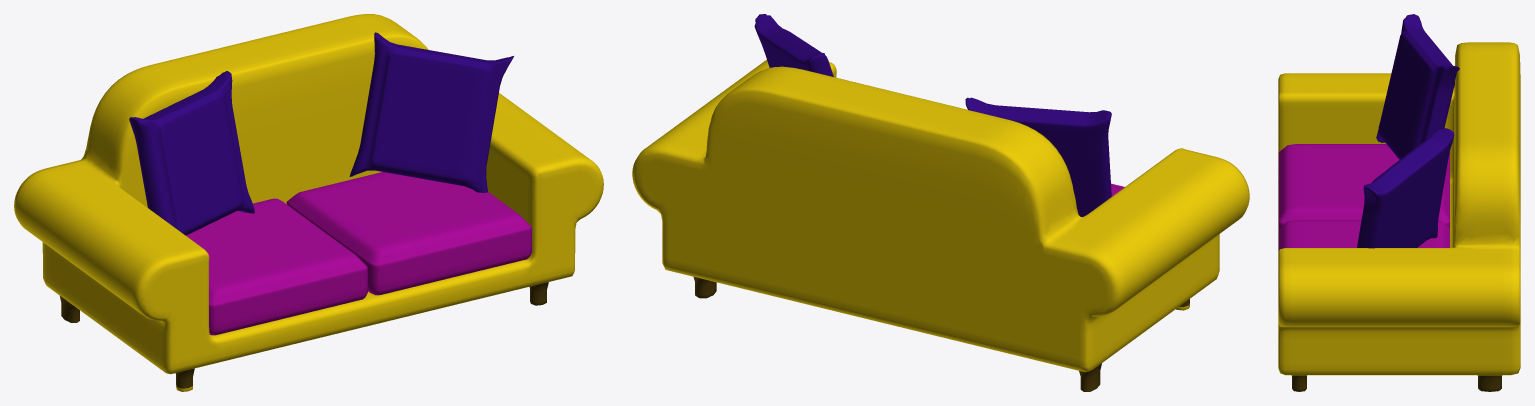
Rendered from SofaHigh.fbx.
3 renders of one model, left to right at view 1: azimuth 30°, elevation 25°; view 2: azimuth 150°, elevation 25°; view 3: azimuth 270°, elevation 25°, orthographic. The views are drawn at different scales.
Parts seen in each view (by area): view 1: Sofa; view 2: Sofa; view 3: Sofa.
Boxes of the visible parts, left/top/right/bottom form: Sofa: left=14, top=14, right=603, bottom=391; Sofa: left=632, top=14, right=1249, bottom=391; Sofa: left=1278, top=14, right=1520, bottom=391.
Bounding box in the file's own units: 8.78 × 4.16 × 4.14.
